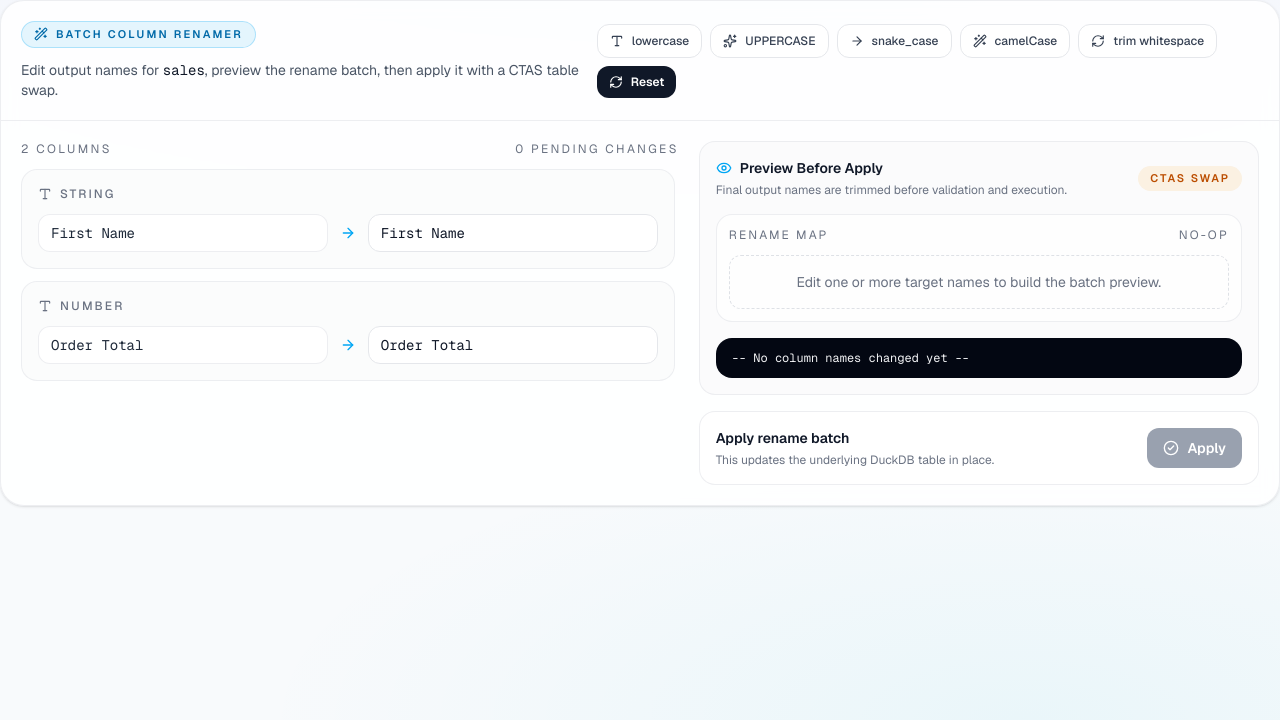
Test case: ColumnRenamer › renders the rename plan, applies a preset, and renames columns with ALTER TABLE
Expected: the text "Batch Column Renamer" is shown, top-left (21, 21), bottom-right (256, 48)
Expected: the text "2 columns" is shown, top-left (21, 141), bottom-right (112, 157)
Click the button "snake_case": (894,41) top-left (837, 24), bottom-right (952, 58)
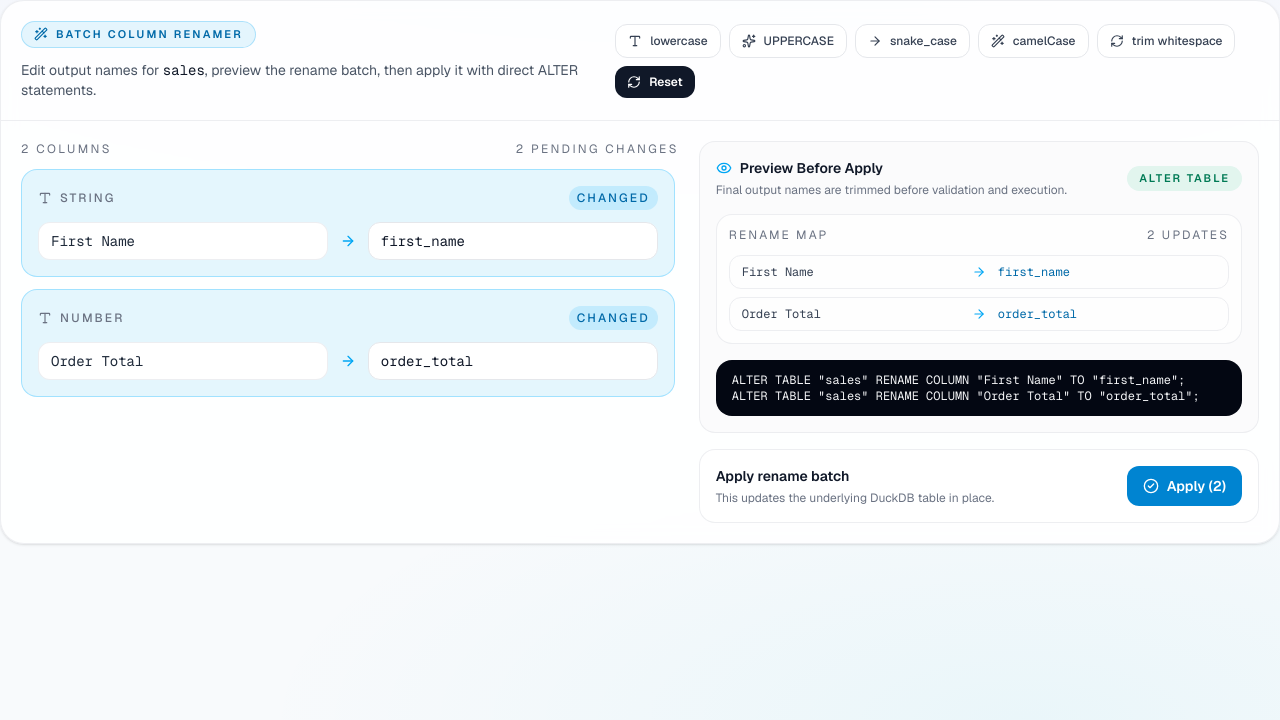
Expected: the field showing "first_name" below "string" is shown, top-left (368, 222), bottom-right (658, 260)
Expected: the field showing "order_total" below "number" is shown, top-left (368, 342), bottom-right (658, 380)
Expected: the text "2 pending changes" is shown, top-left (516, 141), bottom-right (679, 157)
Click the button "Apply (2)": (1184,486) top-left (1127, 466), bottom-right (1242, 506)
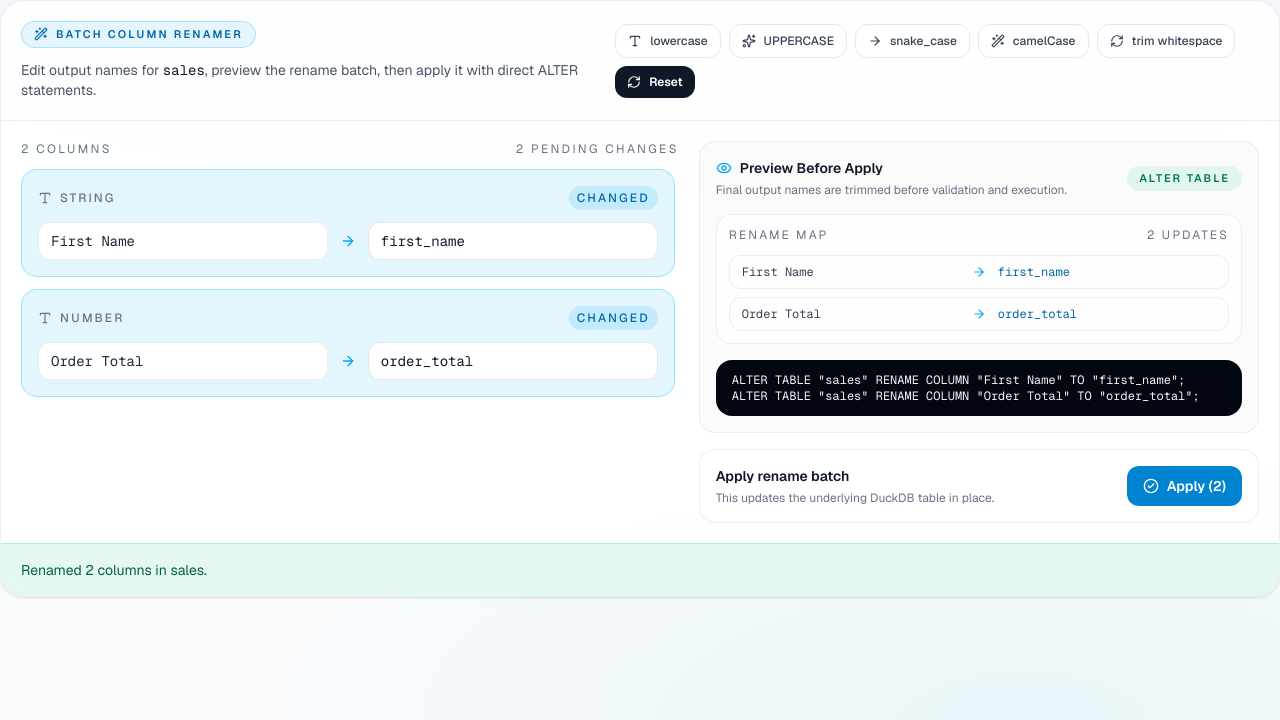
Expected: the text "Renamed 2 columns in sales." is shown, top-left (1, 543), bottom-right (1279, 596)
